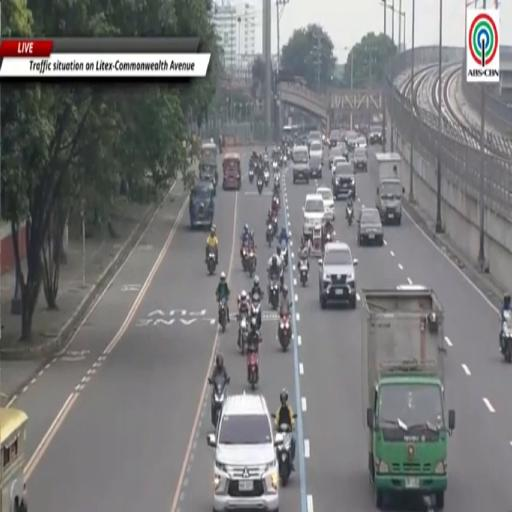car: (207, 394, 278, 511), (319, 242, 357, 309), (189, 181, 215, 229), (357, 208, 383, 246), (303, 193, 324, 238), (332, 163, 356, 199), (316, 187, 335, 221), (309, 140, 323, 178), (292, 164, 309, 184), (329, 144, 342, 169), (353, 148, 367, 171), (328, 129, 342, 148), (331, 156, 347, 172), (396, 284, 427, 292), (308, 131, 321, 146), (369, 131, 382, 145), (355, 137, 367, 149)
jeepney: (0, 408, 27, 511), (198, 142, 218, 185), (223, 153, 241, 189)
motorcycle: (209, 377, 229, 427), (276, 424, 292, 486), (246, 345, 258, 390), (501, 311, 511, 362), (278, 314, 291, 351), (238, 314, 248, 355), (251, 294, 261, 329), (269, 279, 279, 310), (219, 299, 227, 332), (298, 260, 308, 286), (248, 248, 256, 277), (207, 250, 216, 275), (280, 240, 288, 268), (266, 221, 273, 247), (242, 246, 248, 271), (346, 206, 353, 226), (274, 171, 280, 191), (273, 196, 280, 213), (257, 176, 263, 194), (273, 214, 278, 235), (325, 232, 333, 243), (264, 169, 269, 186), (249, 168, 254, 183), (273, 160, 278, 172), (283, 154, 287, 165)
truck: (361, 287, 455, 509), (375, 153, 404, 225)
